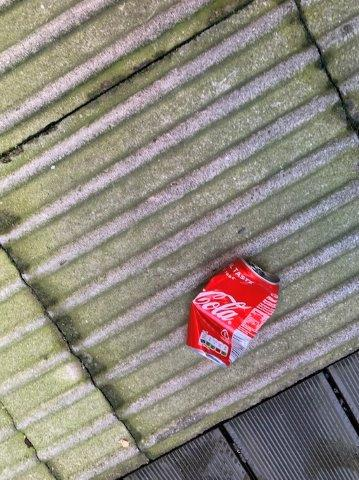kaleng: (187, 261, 279, 367)
